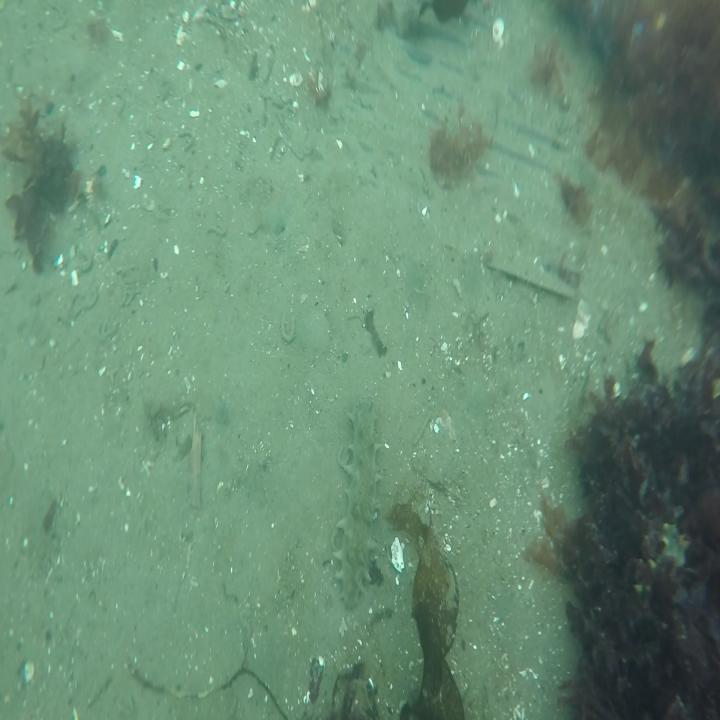holothurian: (329, 400, 383, 605)
